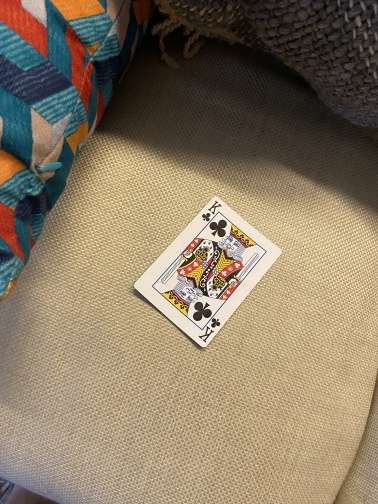king: (132, 194, 283, 349)
